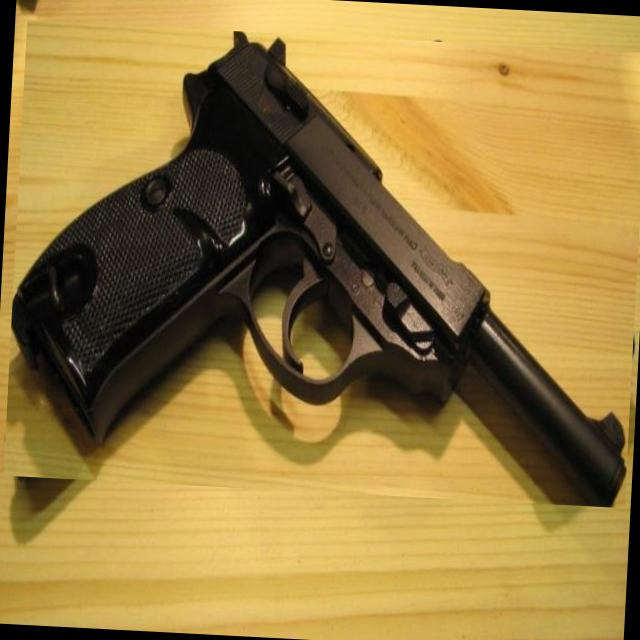Gun: (12, 32, 626, 507)
